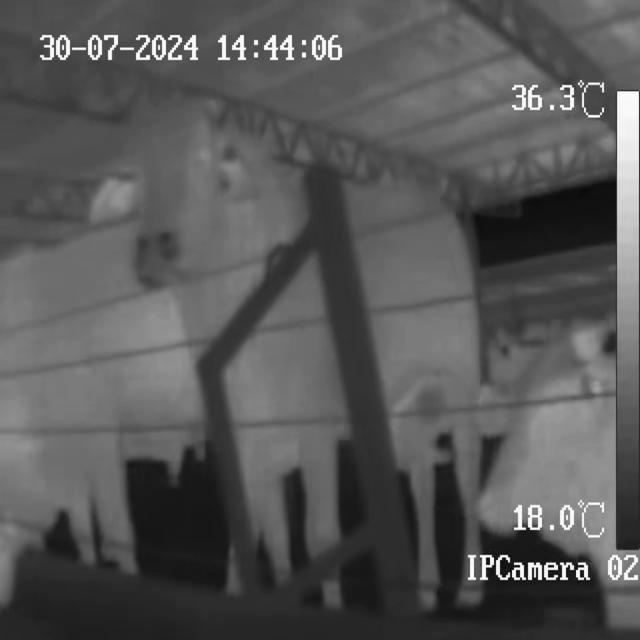eye: (540, 385, 573, 419), (190, 140, 212, 172)
head: (473, 331, 603, 537), (125, 108, 221, 288)
